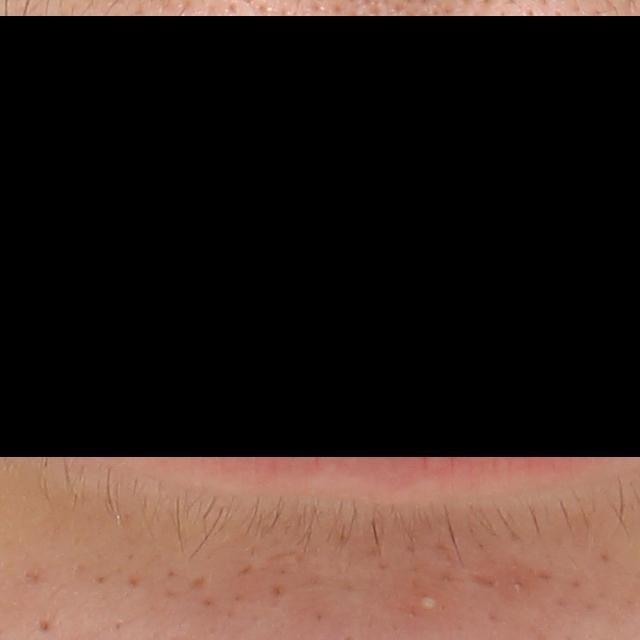pustule: (416, 593, 441, 616)
